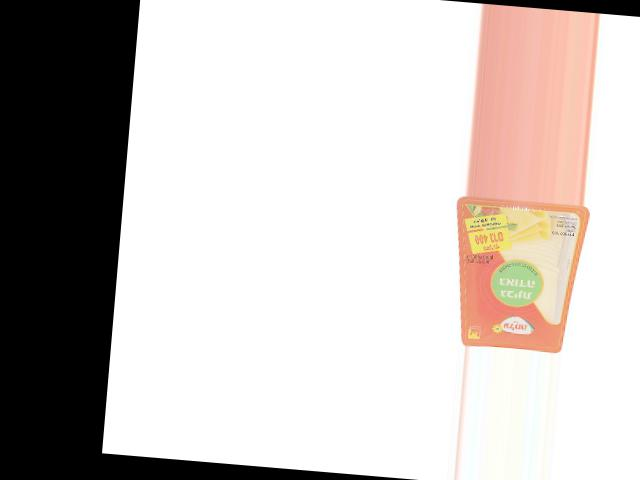cheese: (444, 194, 589, 354)
